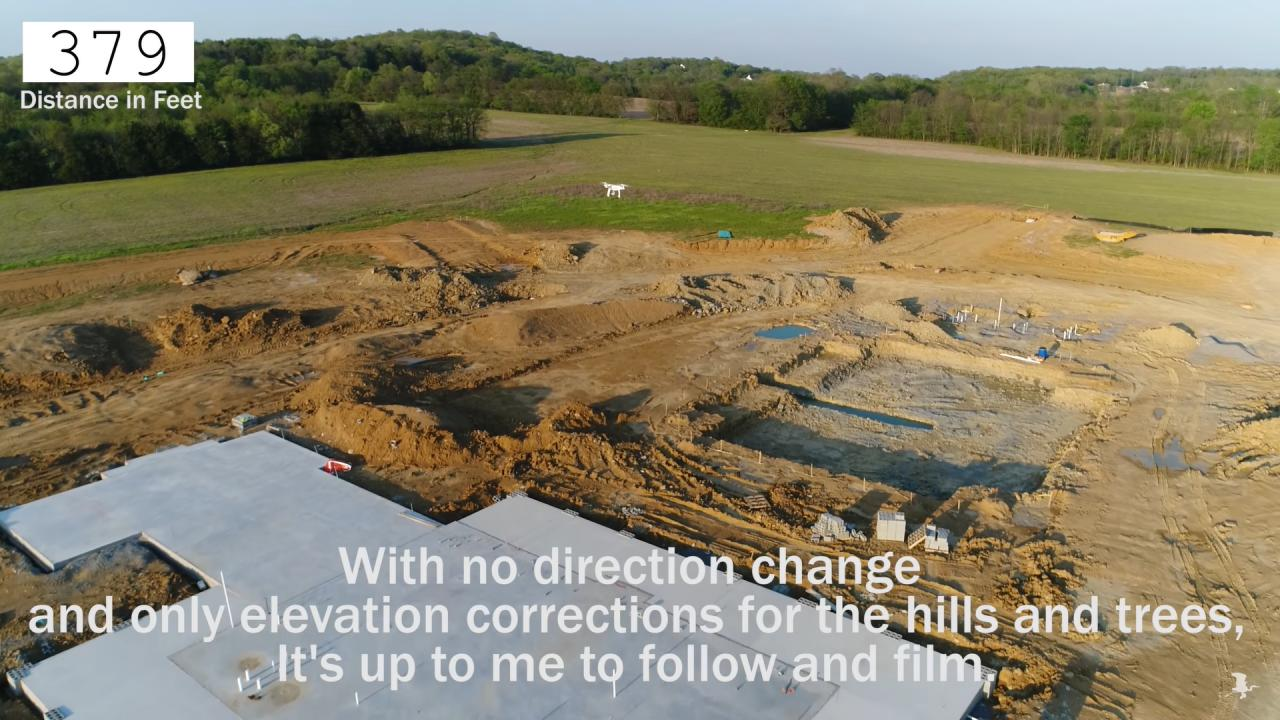Drone: (594, 174, 636, 209)
